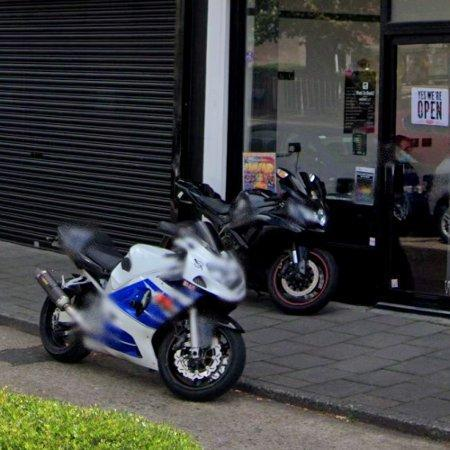motorcycles: (36, 222, 247, 401)
